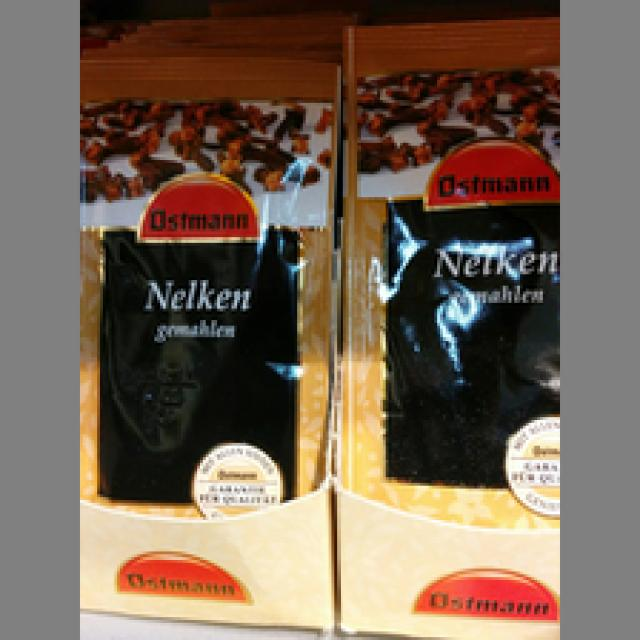groceries: (77, 46, 340, 514), (343, 14, 554, 523)
